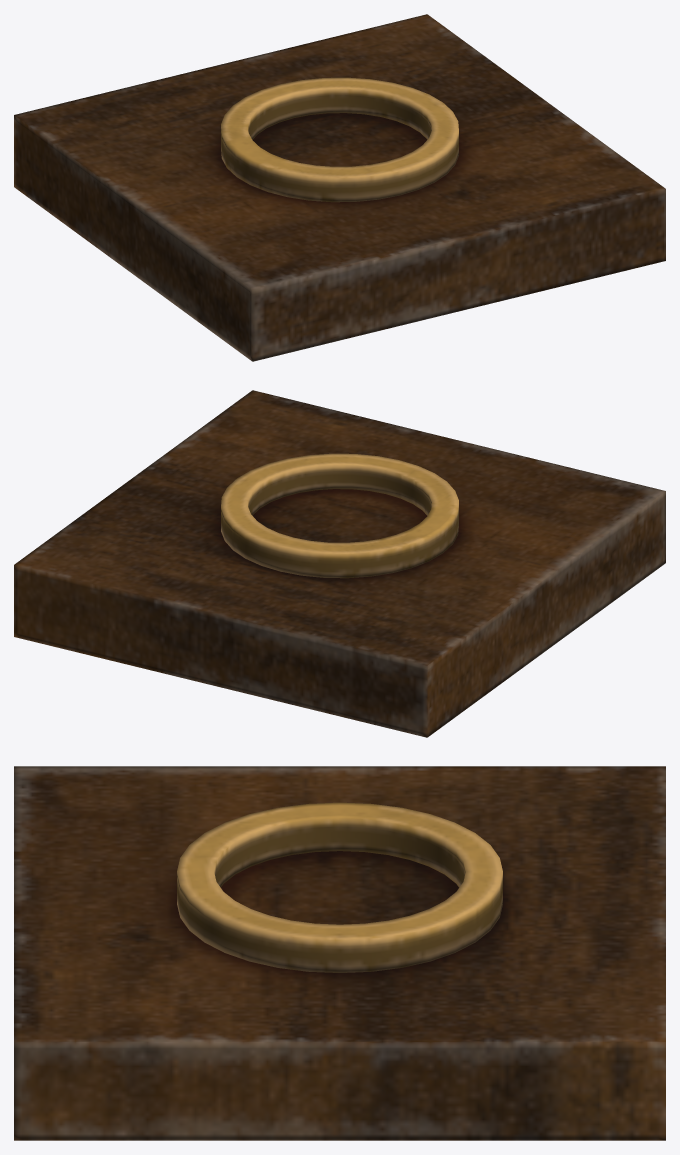
3 renders of one model, top to bottom at view 1: azimuth 30°, elevation 25°; view 2: azimuth 150°, elevation 25°; view 3: azimuth 270°, elevation 25°, orthographic. The views are drawn at different scales.
Parts seen in each view (by area): view 1: mesh_002_low.002; view 2: mesh_002_low.002; view 3: mesh_002_low.002.
Boxes of the visible parts, x1,y1,x2,y2 form: mesh_002_low.002: (14, 14, 665, 361); mesh_002_low.002: (14, 390, 665, 737); mesh_002_low.002: (14, 766, 665, 1140).
Size of the model in its own units: 0.9 by 0.2 by 0.9.
1 material, 1 textured.
